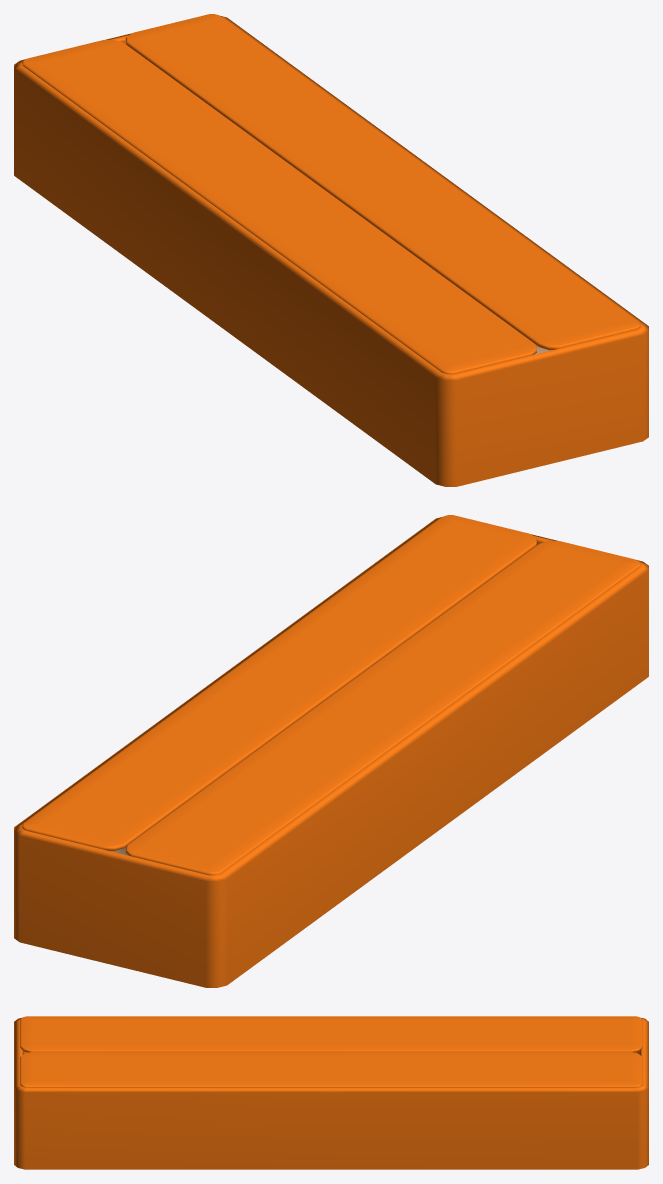
File: Orange_Box.fbx
3 views of the same model, one above another, from view 1: azimuth 30°, elevation 25°; view 2: azimuth 150°, elevation 25°; view 3: azimuth 270°, elevation 25° (orthographic). The views are drawn at different scales.
Parts seen in each view (by area): view 1: Orangebox, Yellowbox2, Yellowbox3; view 2: Orangebox, Yellowbox2, Yellowbox3; view 3: Orangebox, Yellowbox2, Yellowbox3.
Part boxes in pixels (x1=…): Orangebox: x1=14, y1=16, x2=648, y2=486; Yellowbox2: x1=125, y1=14, x2=640, y2=350; Yellowbox3: x1=22, y1=40, x2=536, y2=374; Orangebox: x1=14, y1=517, x2=648, y2=987; Yellowbox2: x1=22, y1=515, x2=537, y2=851; Yellowbox3: x1=126, y1=541, x2=640, y2=875; Orangebox: x1=14, y1=1018, x2=648, y2=1169; Yellowbox2: x1=20, y1=1051, x2=642, y2=1087; Yellowbox3: x1=20, y1=1016, x2=642, y2=1052.
Bounding box in the file's own units: 252 × 126 × 896.
